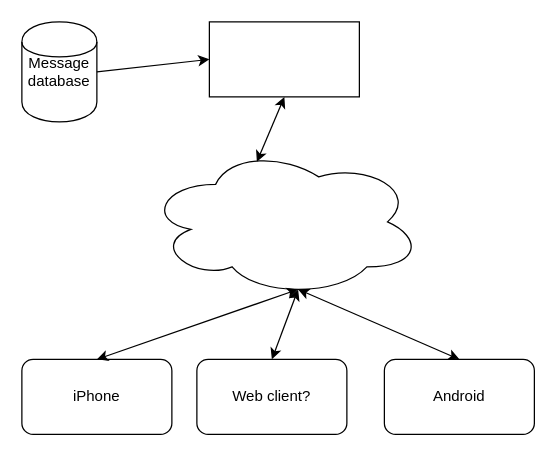
Some shapes in this 556 by 456 pixel diagram are drawn without their labels. The centre of each missing label's shape, as x and y in pixels:
"Server for transferring messages" belongs at (x=283, y=59).
"THE CLOUD^H^H^H^HBUTT" belongs at (x=284, y=221).
